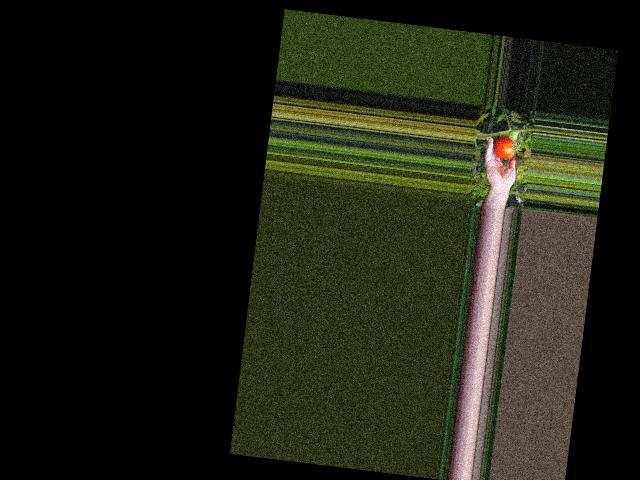tomato: (493, 135, 516, 161)
